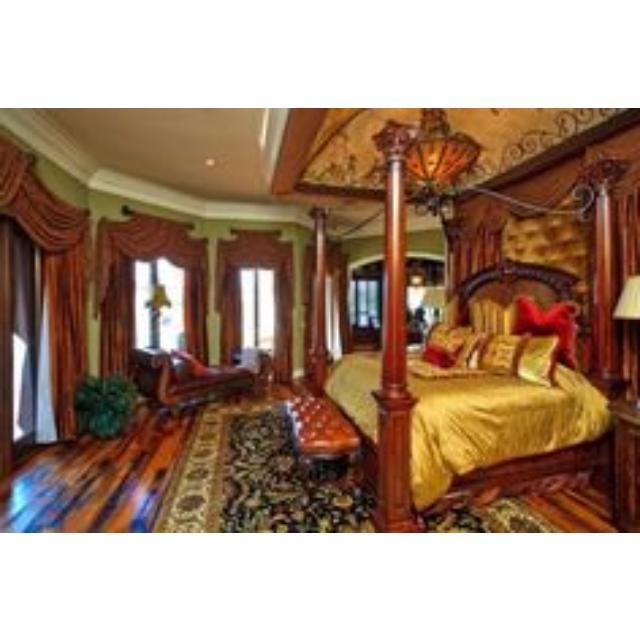bed: (76, 212, 421, 515)
chair: (475, 374, 570, 437)
lamp: (12, 316, 72, 392), (452, 325, 485, 422)
light: (305, 109, 399, 220), (406, 107, 481, 181)
plant: (580, 260, 640, 416), (12, 316, 71, 344)
rug: (159, 401, 374, 532), (425, 498, 554, 532)
table: (0, 422, 640, 531), (0, 396, 72, 480)
